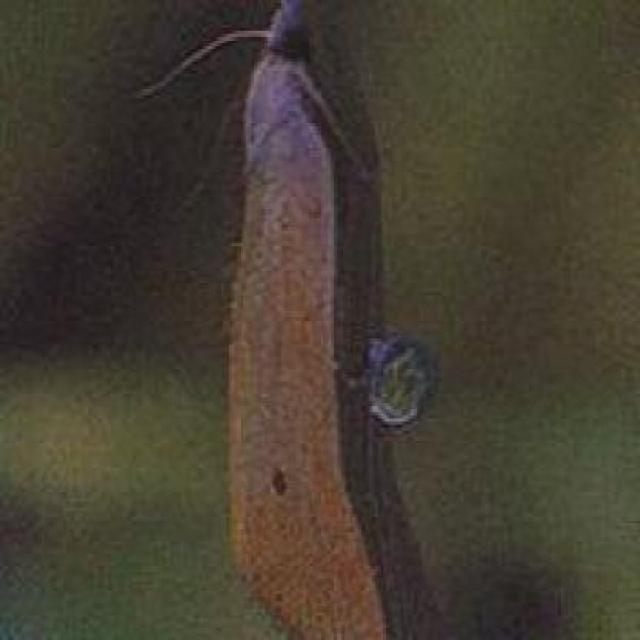stem-borer: (215, 0, 370, 640)
